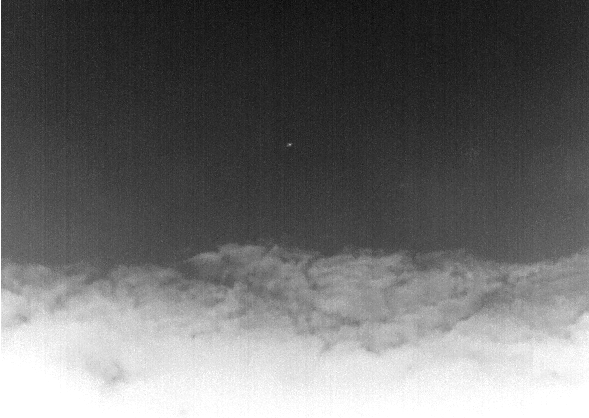dim target: (286, 142, 293, 147)
